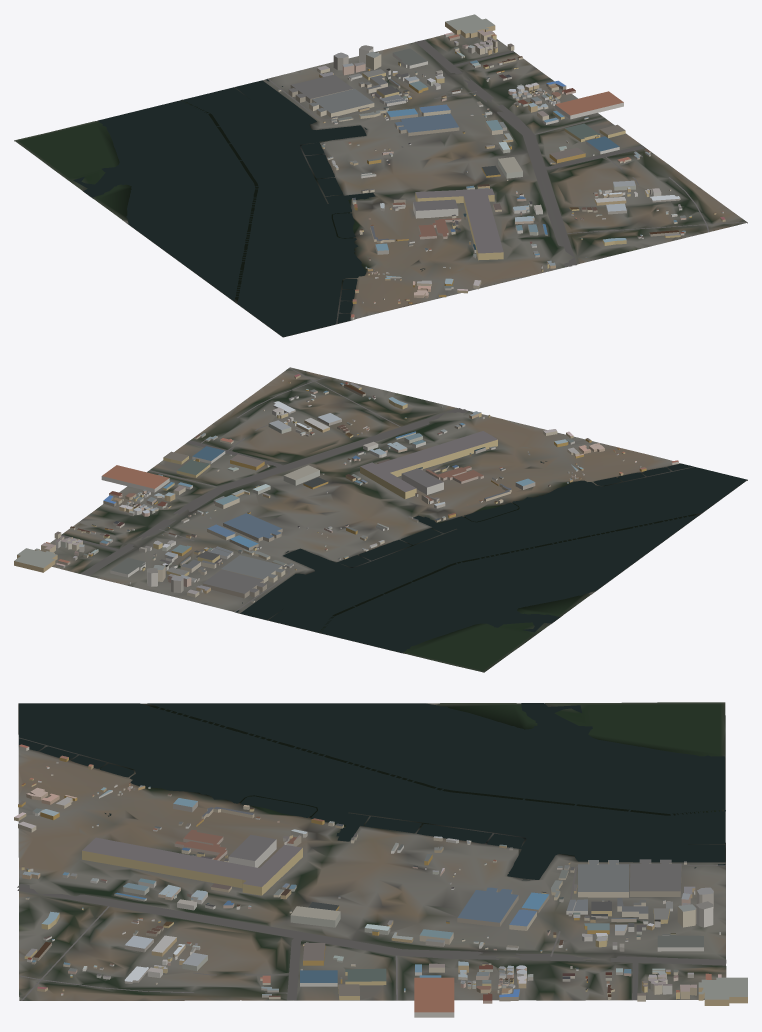
The picture shows the model from 3 angles, top to bottom: view 1: azimuth 30°, elevation 25°; view 2: azimuth 150°, elevation 25°; view 3: azimuth 270°, elevation 25°; orthographic projection. The views are drawn at different scales.
Parts seen in each view (by area): view 1: ground, water, buildings, roads; view 2: ground, water, buildings, roads; view 3: ground, water, buildings, roads.
Boxes of the visible parts, <box> form: ground: <box>14,32,747,337</box>; water: <box>73,79,424,336</box>; buildings: <box>277,14,725,319</box>; roads: <box>267,40,746,266</box>; ground: <box>40,367,747,672</box>; water: <box>235,461,746,652</box>; buildings: <box>14,374,678,602</box>; roads: <box>61,367,468,611</box>; ground: <box>18,702,726,1000</box>; water: <box>19,703,725,880</box>; buildings: <box>14,744,747,1017</box>; roads: <box>17,863,726,1000</box>.
Size of the model in its own units: 1481 by 45.38 by 1454.
